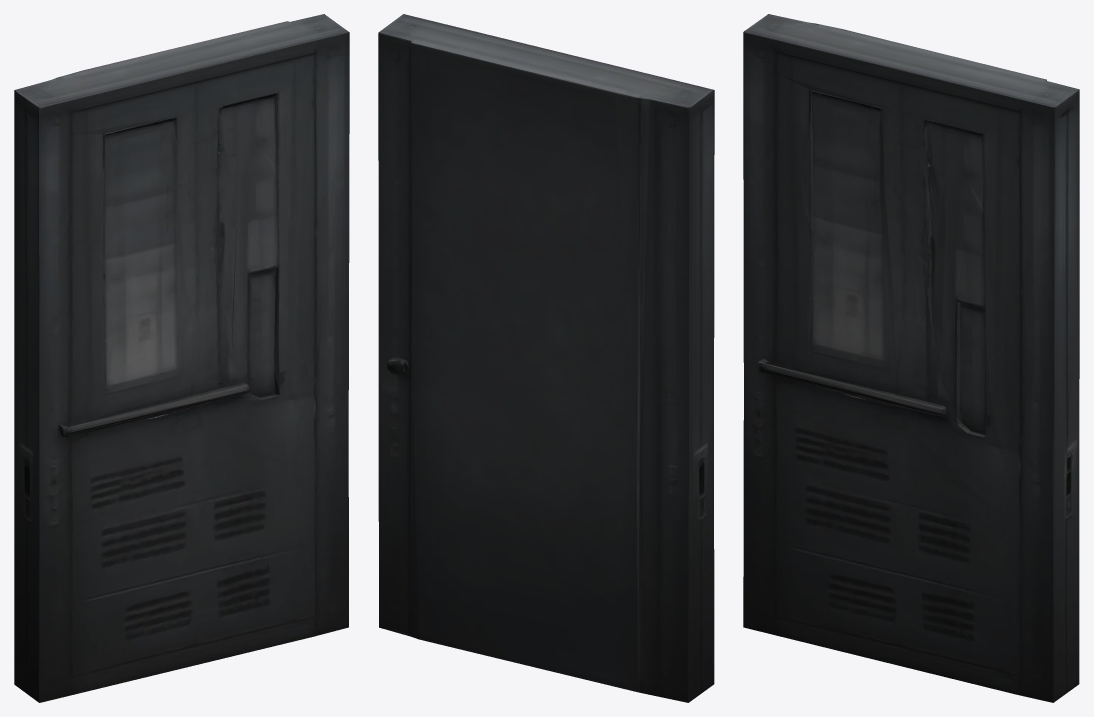
Rendered from heavy-door.glb.
The picture shows the model from 3 angles, left to right: view 1: azimuth 30°, elevation 25°; view 2: azimuth 150°, elevation 25°; view 3: azimuth 330°, elevation 25°; orthographic projection.
Visible parts, largest first — view 1: geometry_0; view 2: geometry_0; view 3: geometry_0.
Part boxes in pixels (x1,y1,x2,y2): geometry_0: (14, 14, 349, 702); geometry_0: (378, 14, 714, 702); geometry_0: (743, 14, 1079, 702).
Bounding box in the file's own units: 0.5463 × 1 × 0.1089.
1 material, 1 textured.
